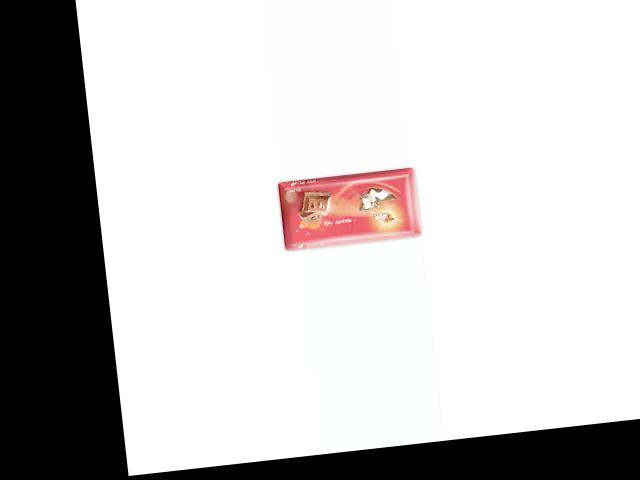chocolate: (274, 161, 429, 251)
